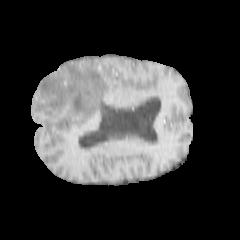glioma: (39, 62, 111, 130)
